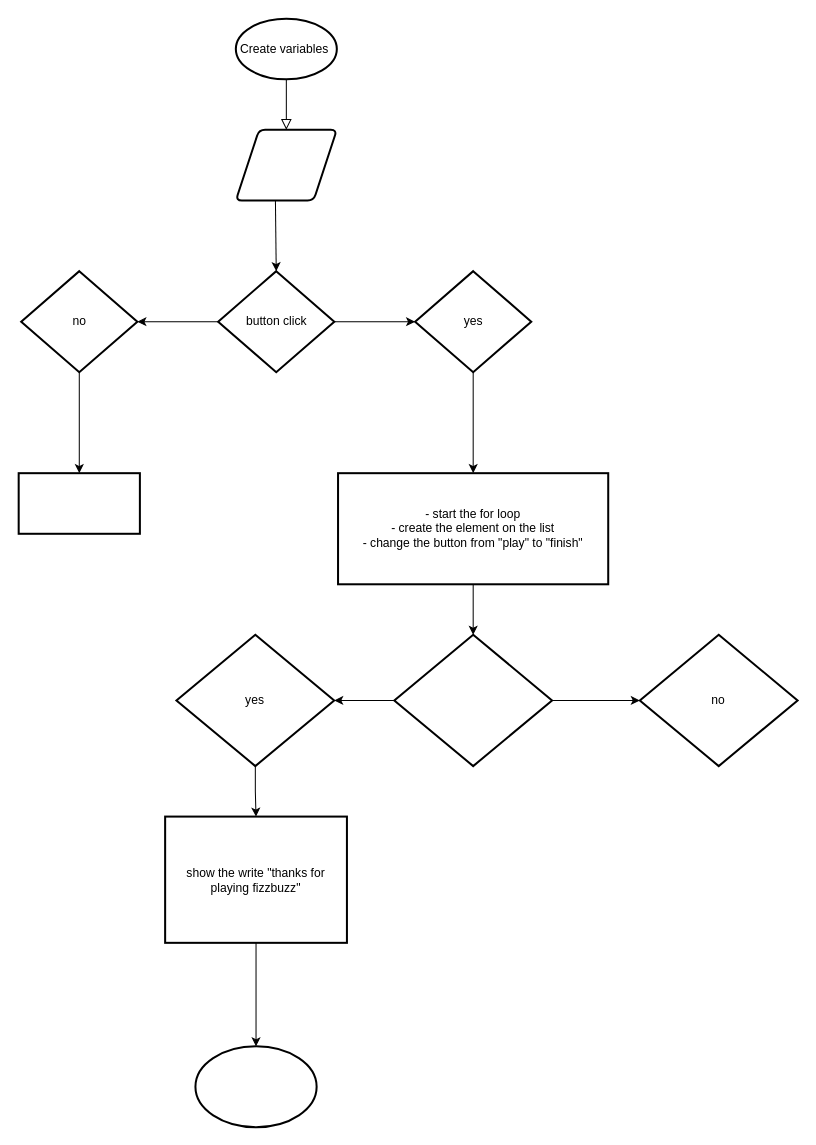
This 816x1145 diagram has some shape labels left out. Each missing label, with the box of its shape:
button has been clicked?: (393, 633, 553, 767)
button list game title: (234, 128, 337, 201)
dont do anything: (17, 472, 140, 534)
finish: (194, 1045, 317, 1128)
